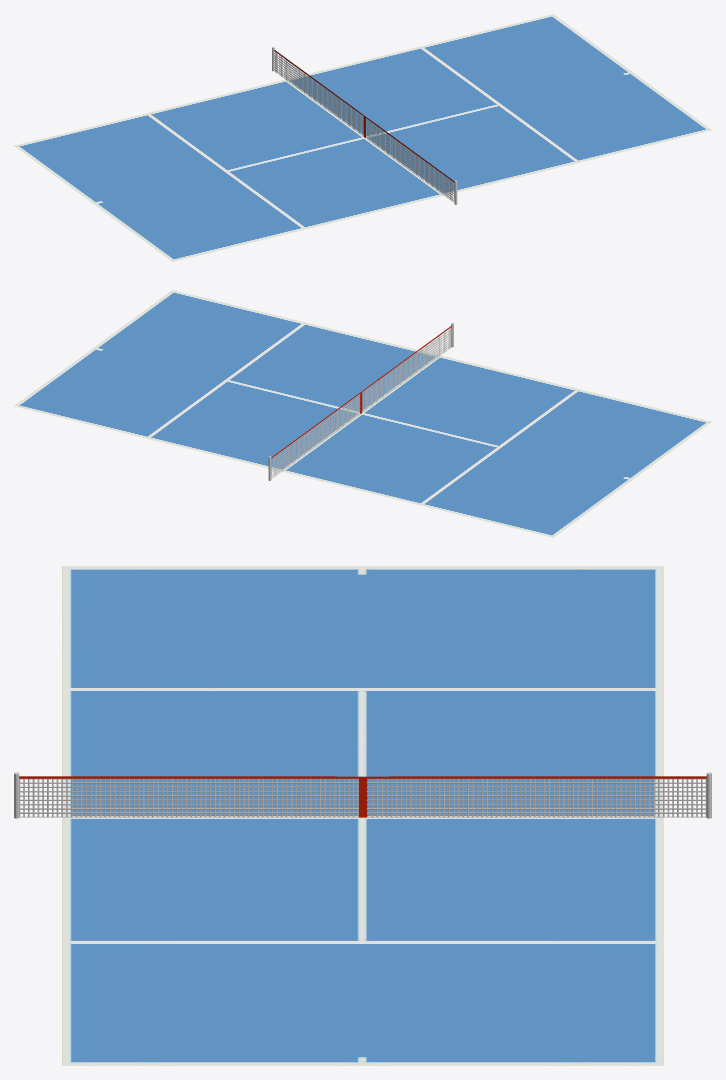
Rendered from TennisCourt.4fbx.fbx.
3 renders of one model, top to bottom at view 1: azimuth 30°, elevation 25°; view 2: azimuth 150°, elevation 25°; view 3: azimuth 270°, elevation 25°, orthographic. The views are drawn at different scales.
Parts seen in each view (by area): view 1: Plane, Plane.001; view 2: Plane, Plane.001; view 3: Plane, Plane.001.
Boxes of the visible parts, x1,y1,x2,y2 form: Plane: (14,14,711,261); Plane.001: (274,50,454,202); Plane: (14,290,711,537); Plane.001: (271,326,451,478); Plane: (62,566,663,1065); Plane.001: (19,776,706,817).
Bounding box in the file's own units: 22000 × 913 × 13000.
